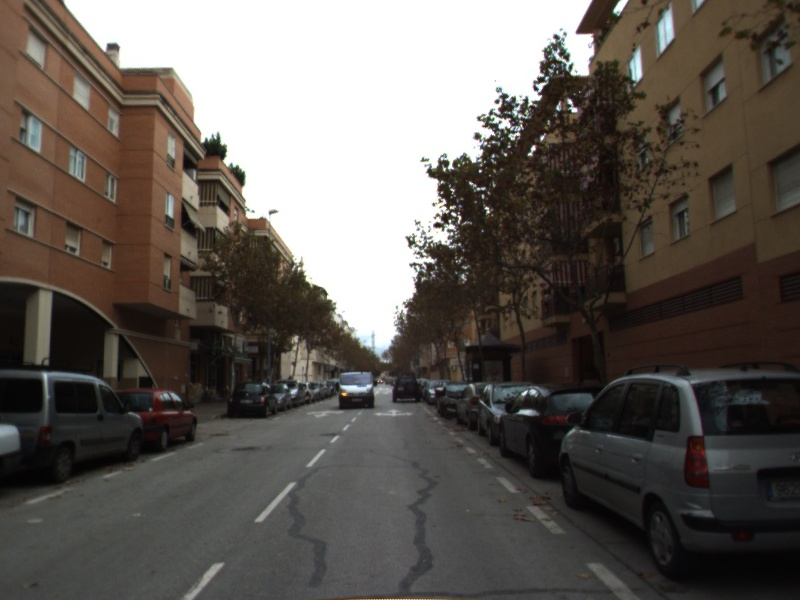STRAIGHT_LEFT_RIGHT: (372, 406, 416, 419)
